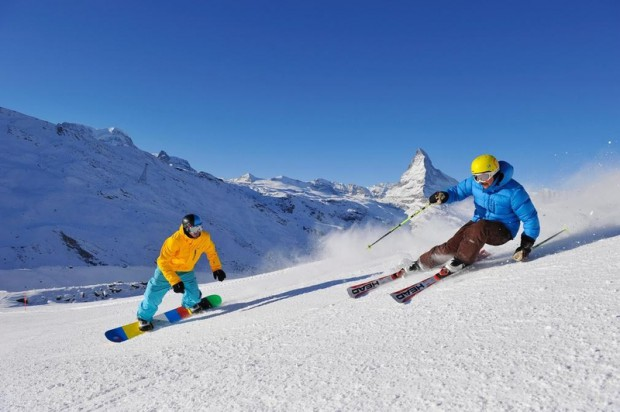skier: (347, 143, 568, 305)
snowboarder: (103, 211, 229, 343)
